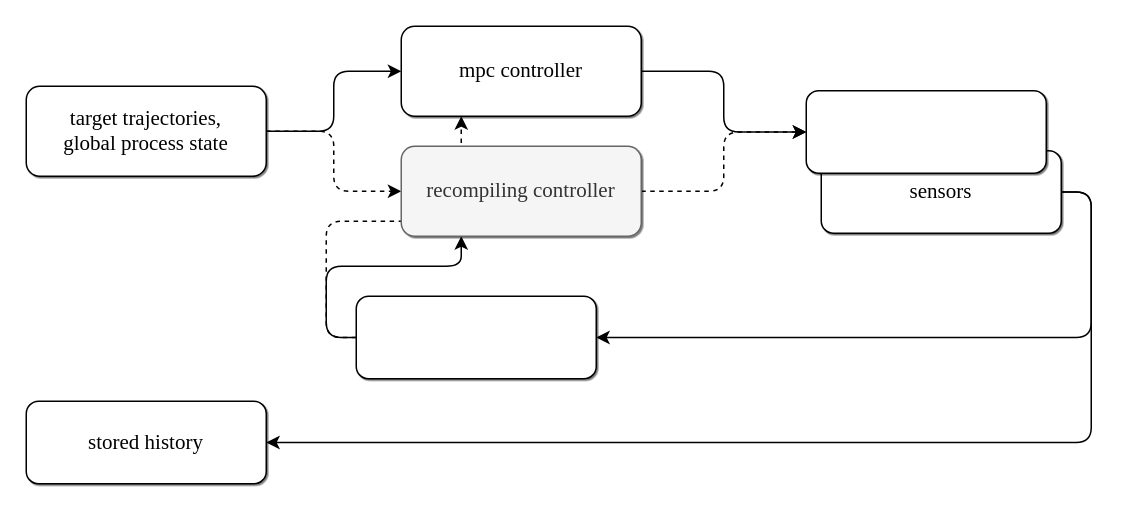
Image size: 1130x512. Some labels were removed from this diagram. The centre of each missing label's shape, as x and y in pixels:
"actuators" goes at [926,132].
"model fitting" goes at [476,337].
